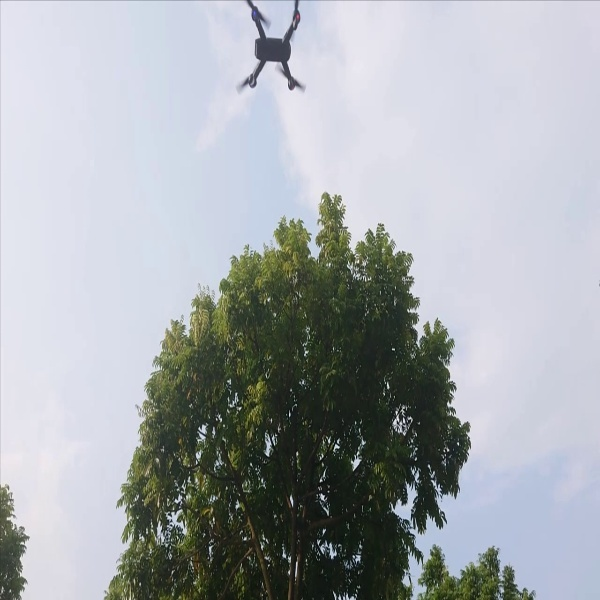drone: (225, 1, 319, 105)
